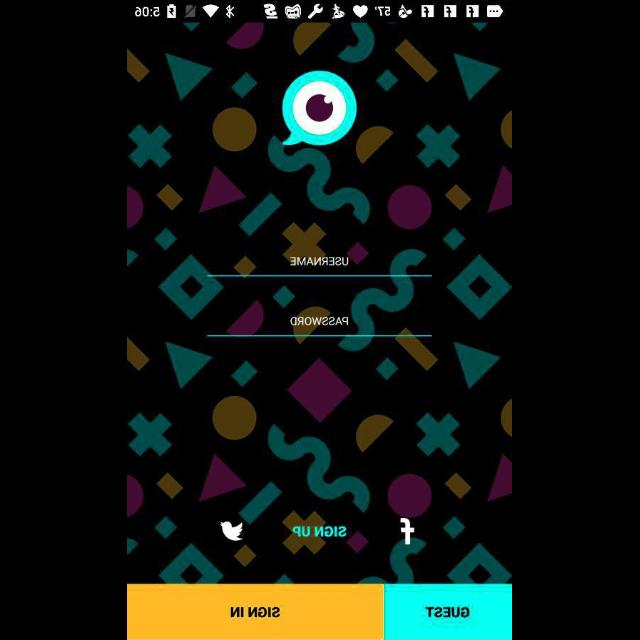backgroundimage: (128, 23, 512, 583)
icon: (220, 521, 244, 541), (401, 518, 415, 544)
image: (282, 71, 358, 147)
input: (207, 256, 433, 278), (207, 316, 433, 338)
text: (293, 526, 347, 538), (291, 256, 349, 266), (291, 318, 349, 327)
textbutton: (128, 584, 384, 640), (384, 584, 512, 640)
uppertaskbar: (128, 1, 512, 23)
